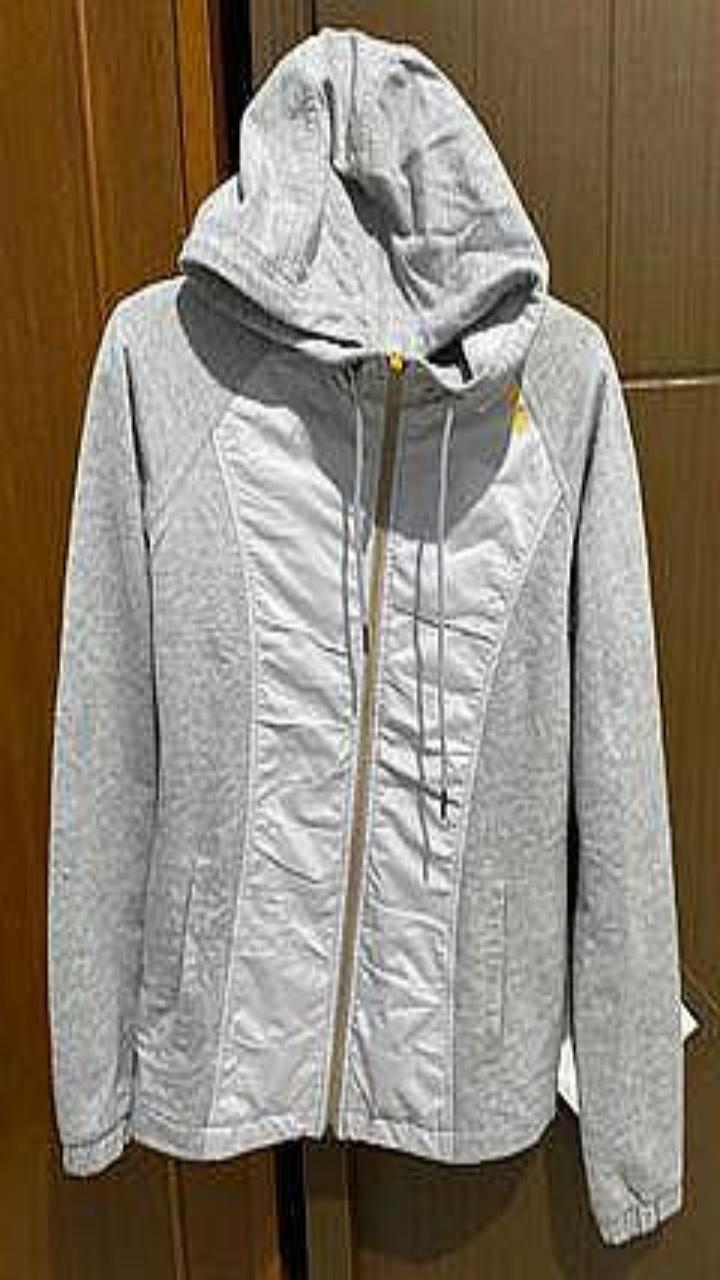Sports_Jacket: (48, 27, 682, 1242)
